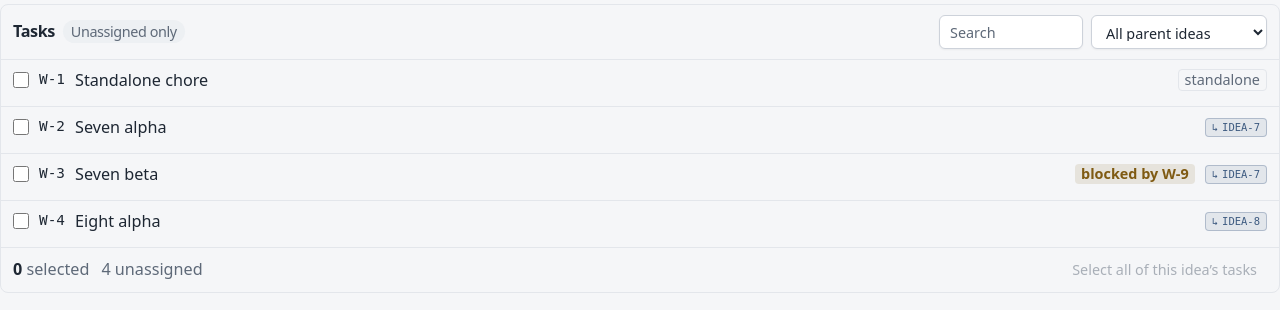
Test: SprintTaskPicker filters › searches title, key and parent key
The image size is (1280, 310).
Type "chore" into the field named "Search tasks" at x=1011, y=32, box [939,15,1083,49]
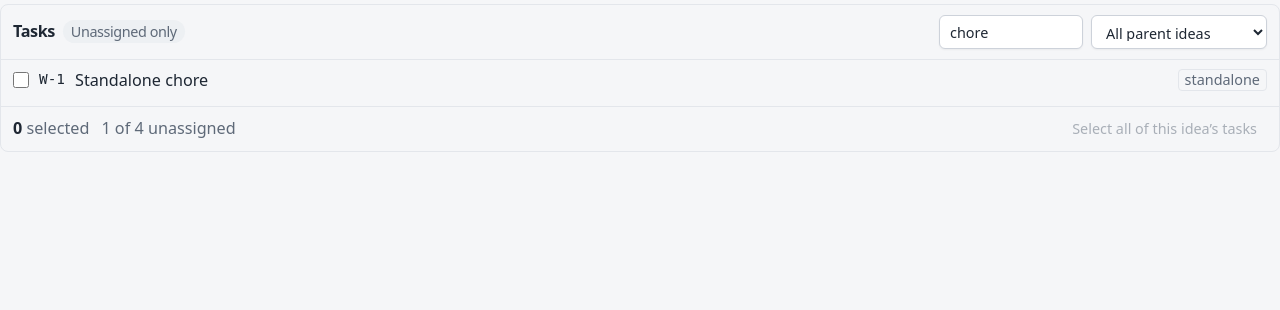
Replace the text in the field named "Search tasks" with "w-4" at x=1011, y=32, box [939,15,1083,49]
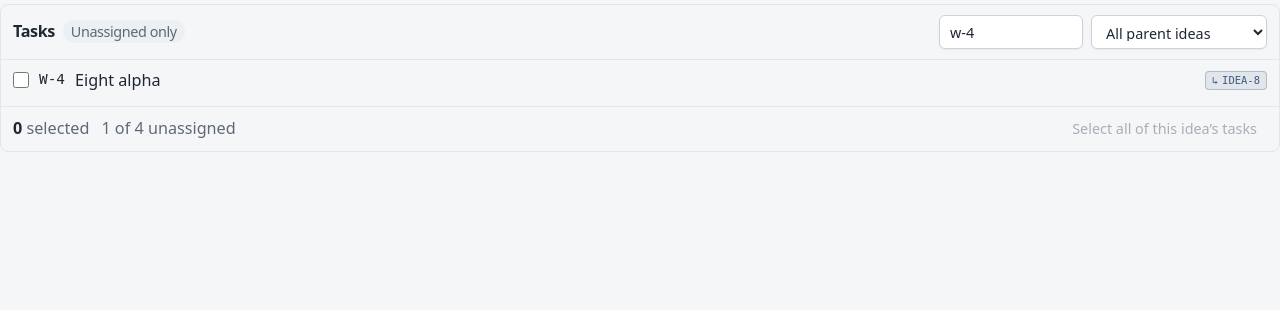
Now the label shows "Eight alpha", box [75,69,160,91]
Replace the text in the field named "Search tasks" with "idea-7" at x=1011, y=32, box [939,15,1083,49]
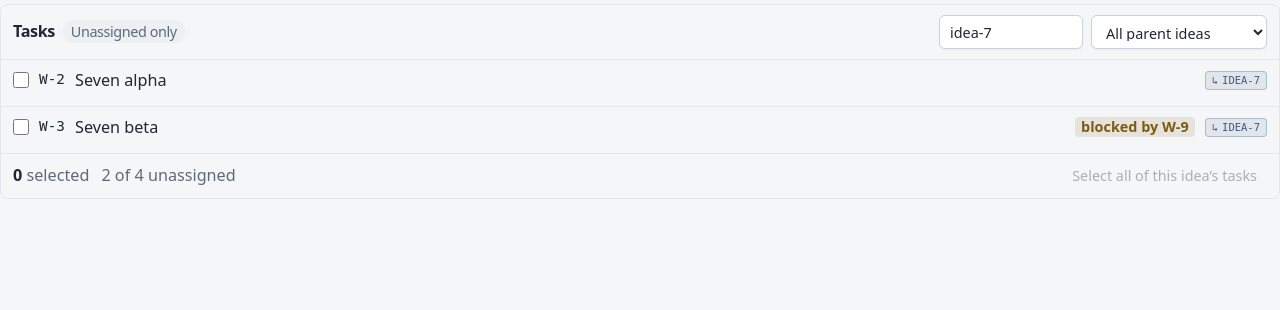
Now the number of labels is 2, box [13,69,1267,91]; [13,116,1267,138]
